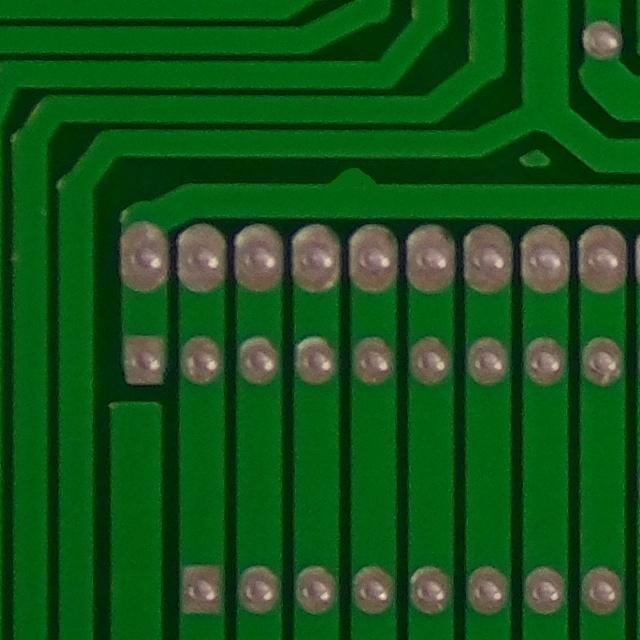spur: (308, 157, 393, 202)
